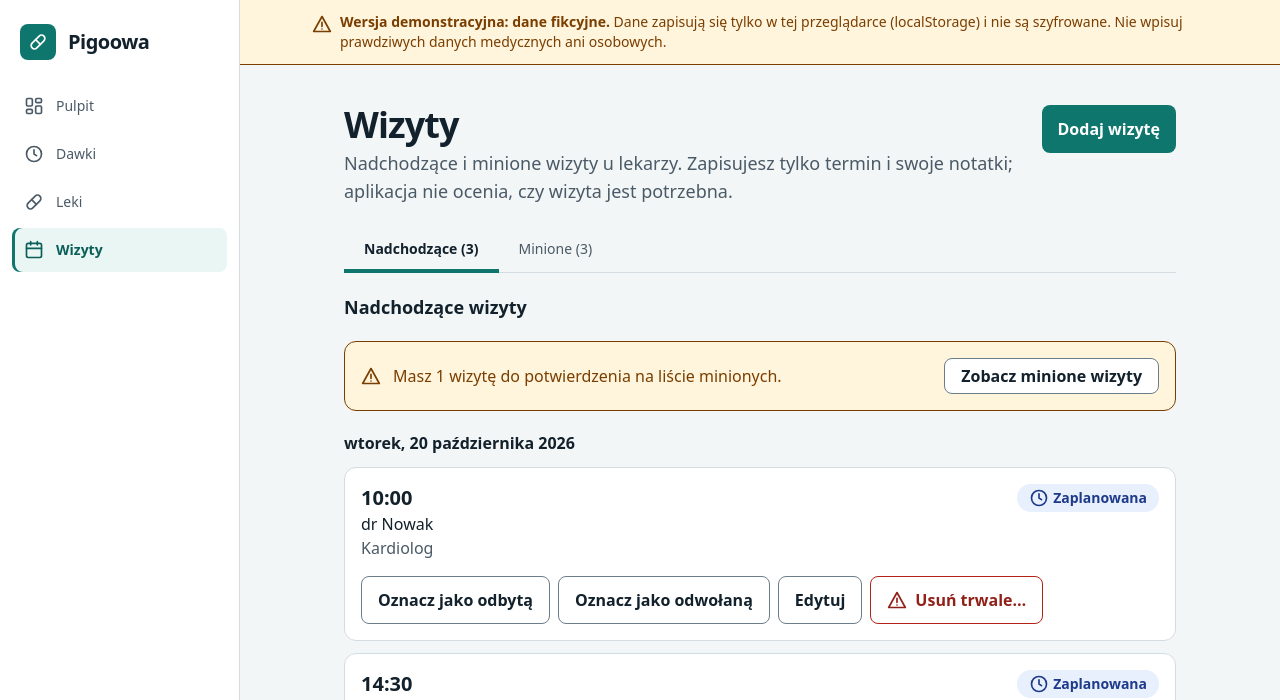
Test: appointments: classification (Stage 2 rules, injected clock) › points from the upcoming tab to appointments that need confirmation
Expected: the text "Masz 1 wizytę do potwierdzenia na liście minionych." is shown, [393,365,782,387]
Click the button "Zobacz minione wizyty" at (1052, 376), box [944,358,1159,394]
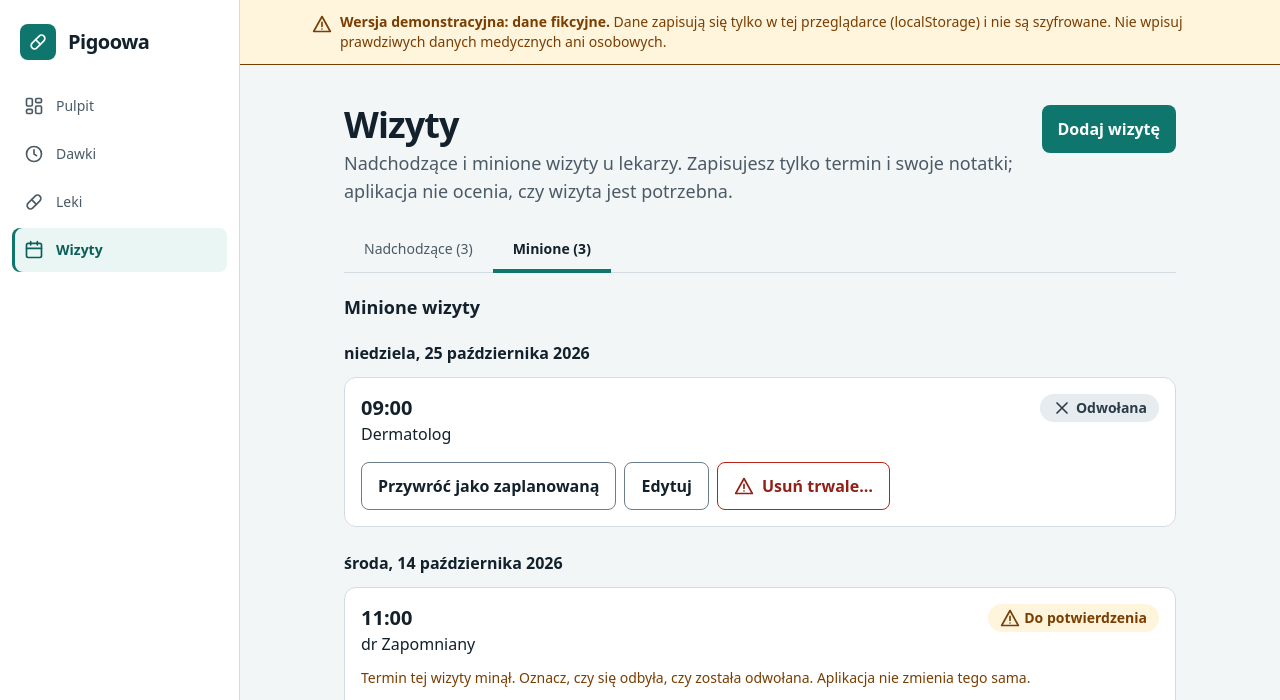
Expected: the heading "Minione wizyty" is shown, [344,295,480,319]
Expected: the text "do potwierdzenia na liście" is gone
